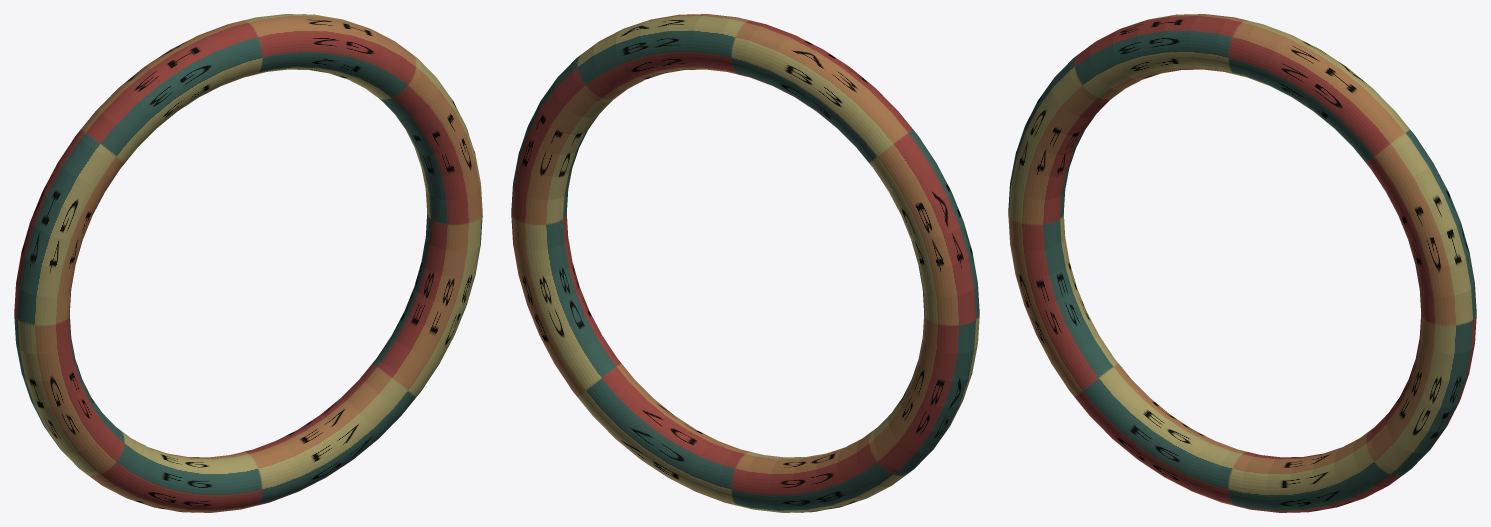
The model's file is texture_torus_R21_r3.glb.
The picture shows the model from 3 angles, left to right: view 1: azimuth 30°, elevation 25°; view 2: azimuth 150°, elevation 25°; view 3: azimuth 330°, elevation 25°; orthographic projection.
Parts seen in each view (by area): view 1: world; view 2: world; view 3: world.
Boxes of the visible parts, x1,y1,x2,y2 form: world: [14, 14, 482, 512]; world: [511, 14, 979, 512]; world: [1008, 14, 1476, 512].
Bounding box in the file's own units: 26.8 × 26.75 × 2.79.
1 material, 1 textured.
